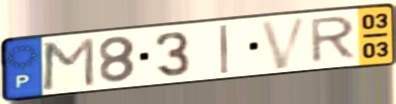3: (154, 30, 194, 78)
8: (96, 34, 138, 84)
I: (218, 23, 231, 76)
M: (40, 35, 97, 93)
R: (308, 13, 360, 66)
V: (257, 14, 312, 72)
